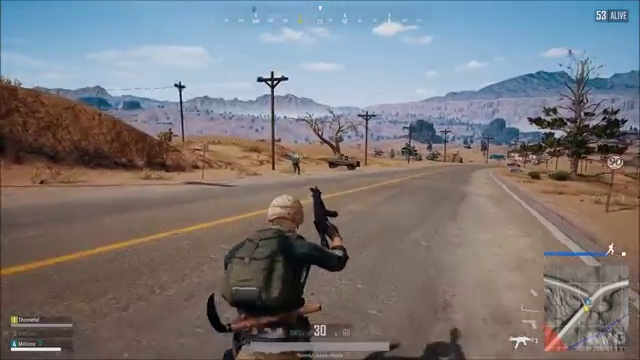Player: (192, 176, 365, 316)
